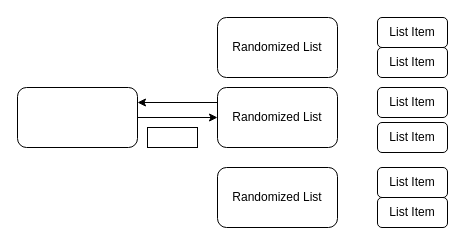
Image size: 465x245. Some labels were removed from this diagram. The shapes that lost their labels are listed below. From the top down, each one's centre as x and y in pixels, then its label:
At pixel 77 117: "User".
At pixel 172 137: "userID".
